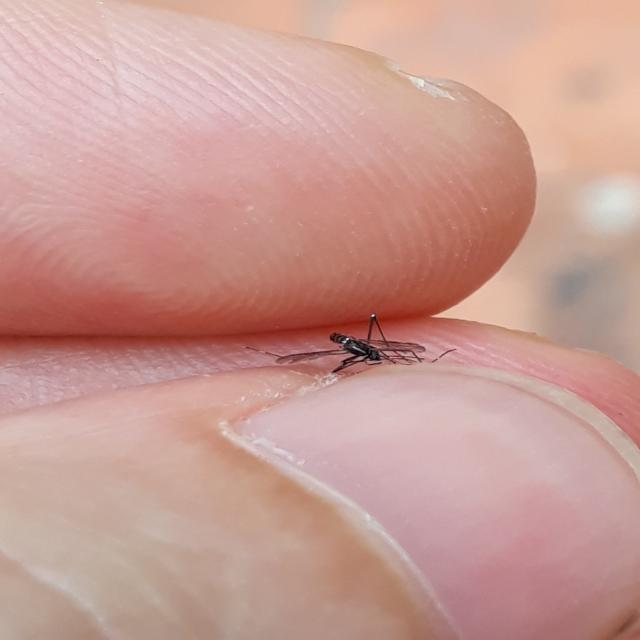albopictus: (241, 303, 467, 384)
